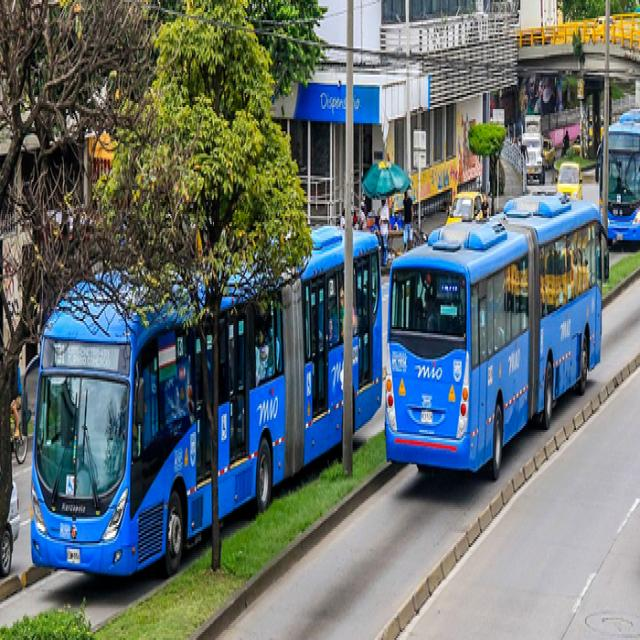BUS: (28, 255, 350, 588), (380, 224, 598, 492), (603, 112, 640, 250)
